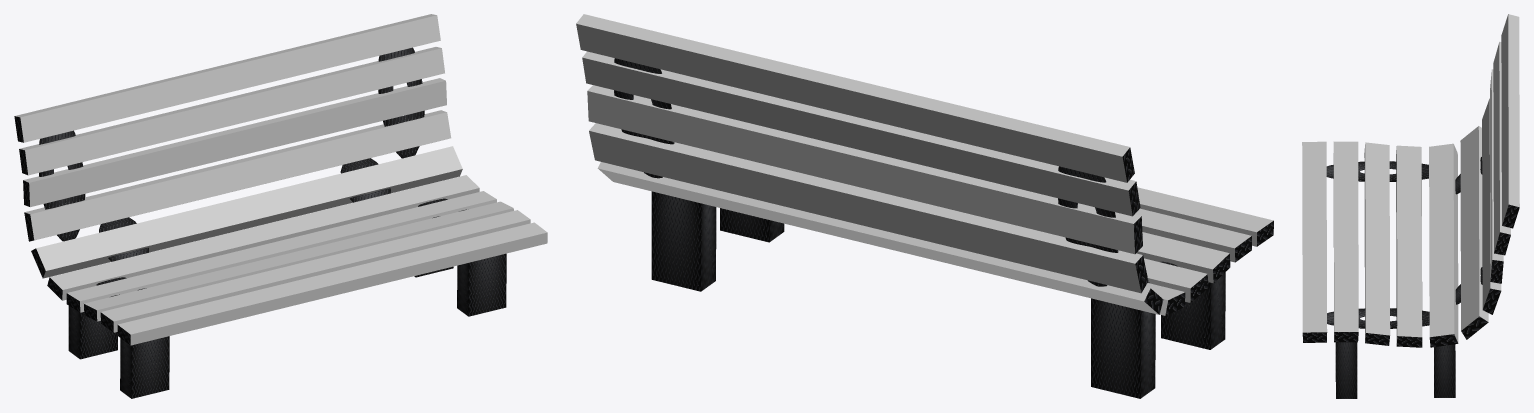
File: banca.obj
The picture shows the model from 3 angles, left to right: view 1: azimuth 30°, elevation 25°; view 2: azimuth 150°, elevation 25°; view 3: azimuth 270°, elevation 25°; orthographic projection. The views are drawn at different scales.
Visible parts, largest first — view 1: banca3:polySurface23; view 2: banca3:polySurface23; view 3: banca3:polySurface23.
Boxes of the visible parts, bbox=[...] form: banca3:polySurface23: bbox=[14, 14, 547, 398]; banca3:polySurface23: bbox=[576, 14, 1273, 398]; banca3:polySurface23: bbox=[1302, 14, 1519, 398].
Bounding box in the file's own units: 4.43 × 2.22 × 2.13.
